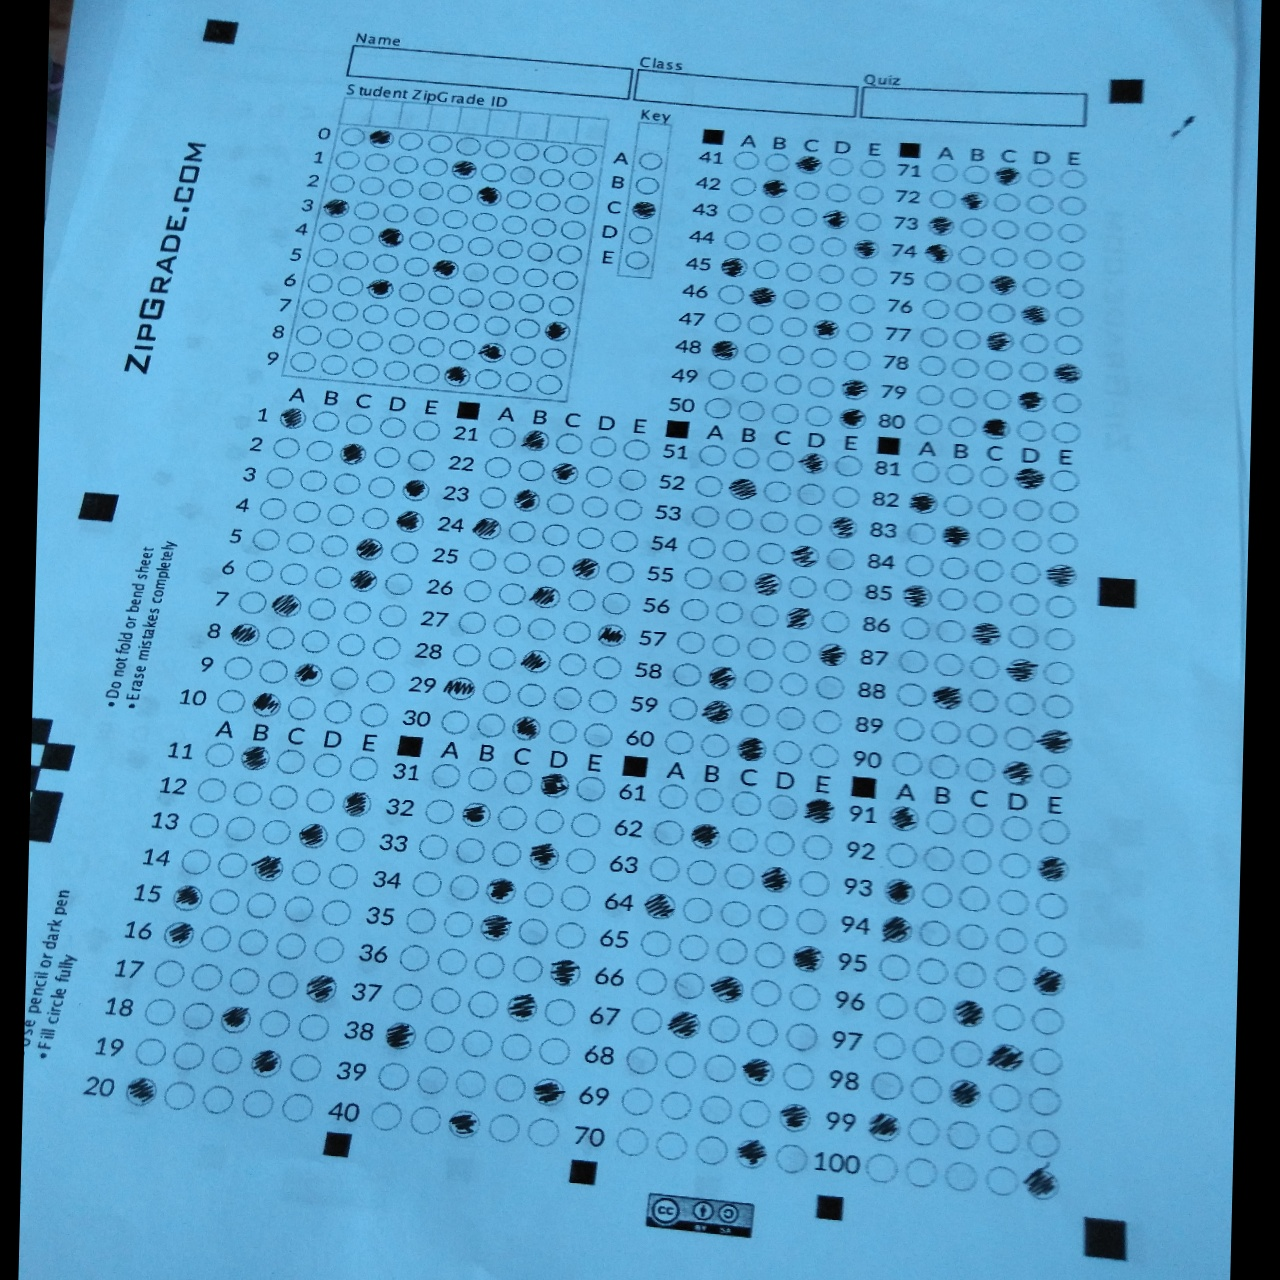not-c: (945, 1117, 982, 1152), (1024, 1126, 1063, 1160), (693, 1133, 729, 1166), (702, 1051, 738, 1084), (782, 1020, 818, 1053), (713, 935, 749, 968), (728, 788, 764, 821), (994, 924, 1030, 956), (907, 1074, 944, 1107), (903, 1156, 939, 1189), (1026, 1085, 1063, 1117), (986, 1082, 1023, 1114), (905, 1115, 942, 1146), (862, 1152, 899, 1184), (983, 1123, 1021, 1155), (697, 1092, 731, 1126), (658, 1090, 693, 1123), (672, 971, 707, 1003), (708, 1012, 743, 1044), (787, 981, 822, 1014), (680, 894, 715, 927), (655, 781, 690, 813), (924, 805, 959, 838), (961, 810, 996, 843), (998, 849, 1033, 881), (1033, 928, 1068, 961), (954, 920, 989, 953), (992, 961, 1027, 994), (911, 1033, 946, 1065), (653, 1129, 689, 1160), (736, 1098, 772, 1130), (627, 1006, 663, 1037), (632, 967, 668, 999), (779, 1061, 816, 1092), (748, 978, 784, 1009), (721, 859, 757, 891), (646, 853, 682, 885), (881, 839, 918, 871), (958, 847, 994, 879), (501, 765, 535, 798), (493, 802, 527, 835), (241, 1087, 275, 1119), (678, 932, 712, 965), (685, 855, 719, 887), (922, 840, 956, 873), (956, 881, 990, 914), (1035, 888, 1069, 921), (772, 1143, 808, 1175), (636, 927, 672, 959), (663, 1049, 699, 1081), (745, 1017, 781, 1049), (751, 940, 787, 972), (717, 898, 753, 930), (755, 901, 790, 933), (762, 828, 797, 859), (692, 785, 727, 817), (998, 813, 1033, 845), (1037, 816, 1073, 847), (917, 915, 952, 947), (878, 951, 913, 982), (990, 1001, 1026, 1033), (1030, 1005, 1065, 1036), (952, 959, 987, 990), (1028, 1046, 1063, 1077), (942, 1160, 978, 1192), (666, 693, 701, 724), (872, 1030, 908, 1061), (869, 1070, 905, 1101), (983, 1166, 1020, 1197), (171, 1039, 204, 1071), (243, 890, 277, 921), (422, 797, 456, 829), (568, 810, 602, 842), (517, 915, 551, 947), (441, 908, 475, 940), (199, 922, 233, 954), (152, 958, 186, 989), (200, 1084, 234, 1116), (227, 965, 261, 996), (297, 1012, 331, 1043), (369, 1101, 403, 1132), (452, 1068, 486, 1099), (493, 1073, 527, 1104), (525, 1116, 559, 1148), (396, 942, 430, 974), (389, 981, 423, 1013), (429, 985, 463, 1016), (499, 1032, 533, 1063), (998, 885, 1032, 917), (915, 956, 949, 988), (948, 1037, 982, 1069), (968, 652, 1002, 683), (806, 740, 840, 771), (903, 549, 937, 580), (615, 1126, 651, 1157), (621, 1085, 656, 1116), (797, 869, 832, 899), (801, 833, 836, 864), (724, 824, 760, 855), (651, 818, 686, 849), (919, 878, 954, 908), (874, 989, 910, 1020), (912, 994, 947, 1024), (891, 715, 926, 745), (1040, 692, 1075, 722), (1042, 625, 1077, 655), (430, 761, 463, 792), (144, 996, 177, 1028), (182, 1000, 215, 1032), (375, 1061, 408, 1092), (415, 1064, 448, 1096), (474, 949, 506, 981), (435, 946, 468, 978), (467, 989, 499, 1021), (461, 1027, 493, 1058), (423, 1024, 456, 1056), (282, 893, 316, 924), (410, 870, 444, 900), (563, 845, 597, 876), (554, 919, 588, 949), (447, 872, 481, 903), (163, 1080, 197, 1110), (273, 931, 307, 961), (288, 1051, 322, 1082), (281, 1092, 315, 1123), (486, 1112, 520, 1143), (625, 1046, 659, 1076), (794, 906, 828, 937), (765, 792, 799, 823), (896, 647, 930, 678), (932, 649, 966, 680), (1041, 658, 1075, 688), (670, 661, 704, 692), (888, 750, 924, 779), (769, 736, 804, 765), (319, 897, 352, 927), (465, 763, 498, 794), (573, 774, 606, 804), (533, 806, 566, 837), (454, 835, 486, 865), (134, 1037, 166, 1068), (211, 1046, 244, 1076), (258, 1008, 291, 1039), (266, 971, 299, 1001), (543, 998, 576, 1028), (409, 1104, 442, 1135), (189, 964, 223, 993), (312, 935, 346, 965), (538, 1037, 572, 1067), (509, 954, 543, 983), (964, 755, 998, 784), (926, 753, 960, 782), (930, 719, 964, 748), (894, 679, 928, 708), (966, 720, 1000, 749), (697, 731, 731, 761), (673, 628, 707, 658), (709, 629, 743, 659), (745, 634, 779, 663), (779, 635, 813, 665), (898, 614, 932, 644), (559, 881, 591, 912), (417, 832, 450, 862), (522, 880, 554, 910), (490, 839, 523, 869), (207, 886, 240, 915), (237, 928, 270, 958), (967, 686, 1000, 715), (1003, 723, 1036, 753), (1040, 762, 1073, 791), (1003, 689, 1036, 719), (663, 727, 696, 756), (737, 702, 771, 730), (741, 668, 775, 696), (678, 595, 712, 624), (819, 608, 853, 636), (327, 862, 359, 891), (404, 907, 436, 937), (461, 578, 493, 606), (311, 751, 343, 779), (813, 673, 846, 701), (774, 704, 806, 733), (713, 600, 745, 628), (810, 708, 844, 735), (685, 535, 719, 561), (823, 546, 857, 573), (971, 588, 1005, 615), (942, 459, 976, 486), (910, 459, 944, 486), (758, 508, 792, 535), (322, 697, 354, 726), (285, 695, 316, 723), (204, 741, 236, 769), (440, 708, 471, 736), (481, 679, 512, 707), (491, 612, 523, 640), (599, 588, 631, 617), (217, 852, 248, 880), (291, 858, 322, 886), (215, 688, 247, 715), (474, 712, 506, 738), (516, 681, 549, 708), (495, 583, 527, 610), (536, 553, 568, 580), (305, 787, 338, 813), (223, 815, 256, 842), (777, 670, 810, 697), (748, 602, 781, 629), (754, 540, 787, 567), (938, 554, 971, 581), (972, 556, 1005, 583), (1048, 467, 1081, 493), (795, 481, 828, 508), (831, 452, 864, 479), (821, 577, 855, 602), (787, 574, 821, 600), (716, 567, 750, 593), (682, 564, 716, 590), (719, 538, 753, 564), (933, 618, 967, 644), (1006, 625, 1040, 651), (1008, 591, 1042, 617), (937, 586, 971, 612), (974, 526, 1008, 552), (1009, 497, 1043, 523), (1046, 530, 1080, 556), (687, 504, 721, 530), (730, 445, 764, 471), (695, 442, 729, 468), (586, 687, 617, 715), (559, 619, 590, 647), (565, 586, 595, 614), (312, 564, 343, 591), (358, 701, 389, 728), (552, 685, 584, 712), (486, 645, 518, 672), (451, 642, 483, 669), (557, 652, 588, 679), (525, 617, 557, 644), (455, 610, 486, 636), (604, 558, 635, 585), (347, 755, 379, 782), (268, 784, 300, 811), (197, 777, 229, 804), (189, 812, 220, 839), (181, 847, 212, 874), (260, 819, 292, 846), (334, 826, 366, 853), (1010, 559, 1042, 586), (762, 479, 794, 506), (1044, 595, 1077, 621), (1010, 529, 1043, 554), (976, 495, 1009, 520), (941, 493, 974, 519), (978, 463, 1010, 489), (1047, 498, 1080, 524), (905, 520, 938, 546), (794, 511, 826, 537), (722, 506, 755, 532), (693, 475, 726, 501), (829, 483, 862, 509), (765, 448, 798, 474), (307, 595, 338, 622), (300, 627, 331, 654), (546, 717, 577, 744), (583, 722, 613, 749), (592, 655, 622, 682), (501, 549, 531, 576), (275, 748, 306, 775), (232, 779, 263, 806), (319, 533, 350, 559), (237, 590, 268, 615), (265, 625, 297, 651), (808, 345, 839, 370), (745, 312, 777, 338), (712, 309, 743, 335), (946, 414, 978, 440), (1019, 331, 1050, 356), (1054, 305, 1085, 331), (329, 665, 359, 692), (258, 496, 288, 522), (244, 559, 274, 585), (342, 599, 373, 625), (377, 602, 408, 628), (258, 658, 288, 683), (222, 655, 252, 681), (608, 527, 639, 553), (613, 498, 644, 524), (579, 495, 610, 520), (482, 455, 512, 481), (516, 457, 546, 483), (618, 467, 648, 492), (769, 400, 799, 425), (774, 372, 804, 397), (812, 290, 843, 315), (845, 291, 876, 316), (953, 297, 983, 322), (1049, 418, 1080, 444), (989, 216, 1020, 241), (1058, 166, 1089, 192), (819, 234, 850, 260), (727, 173, 757, 199), (802, 403, 833, 428), (704, 367, 736, 392), (741, 340, 772, 365), (1051, 390, 1083, 415), (986, 300, 1017, 325), (958, 216, 989, 240), (1026, 165, 1057, 190), (992, 190, 1023, 215), (540, 523, 570, 549), (576, 526, 605, 552), (588, 435, 618, 461), (736, 399, 765, 424), (922, 270, 952, 295), (755, 230, 784, 256), (251, 526, 281, 551), (285, 530, 315, 554), (384, 572, 415, 597), (278, 561, 308, 586), (365, 669, 395, 694), (467, 547, 497, 572), (545, 491, 576, 516), (477, 485, 508, 510), (584, 465, 614, 490), (486, 424, 517, 449), (806, 375, 837, 400), (844, 320, 874, 345), (738, 368, 769, 393), (775, 343, 805, 368), (715, 281, 745, 306), (847, 264, 878, 288), (751, 256, 782, 280), (914, 411, 945, 436), (952, 326, 982, 350), (983, 358, 1014, 382), (1016, 417, 1047, 442), (1017, 360, 1048, 384), (1022, 275, 1053, 300), (1054, 274, 1084, 299), (1055, 248, 1085, 273), (1023, 246, 1054, 271), (990, 245, 1021, 270), (1055, 220, 1085, 245), (1024, 191, 1055, 216), (927, 188, 958, 212), (961, 162, 992, 186), (722, 227, 753, 252), (724, 200, 755, 225), (730, 148, 761, 172), (761, 149, 791, 173), (917, 354, 948, 377), (1051, 334, 1083, 358), (824, 155, 856, 178), (343, 413, 373, 437), (377, 415, 407, 440), (298, 468, 327, 492), (366, 475, 395, 499), (390, 540, 420, 565), (372, 636, 401, 661), (338, 633, 367, 658), (506, 520, 536, 545), (622, 437, 652, 462), (554, 431, 584, 456), (703, 396, 733, 421), (779, 314, 809, 339), (782, 287, 811, 312), (784, 258, 813, 282), (948, 386, 978, 410), (914, 384, 944, 409), (920, 326, 949, 350), (920, 297, 949, 321), (955, 271, 985, 295), (983, 388, 1013, 413), (1057, 193, 1087, 218), (930, 159, 959, 184), (305, 440, 335, 463), (271, 436, 301, 459), (332, 472, 362, 496), (842, 349, 872, 373), (817, 263, 847, 286), (949, 356, 980, 380), (956, 243, 987, 266), (788, 232, 818, 256), (791, 179, 822, 203), (470, 209, 499, 232), (306, 272, 335, 295), (392, 306, 421, 329), (311, 409, 340, 433), (411, 418, 441, 442), (407, 449, 436, 472), (264, 465, 293, 489), (361, 505, 390, 529), (326, 504, 355, 527), (1022, 218, 1051, 241), (823, 182, 853, 204), (454, 134, 482, 157), (479, 161, 508, 184), (411, 204, 440, 227), (551, 268, 579, 292), (457, 286, 485, 309), (422, 307, 450, 331), (362, 302, 390, 326), (325, 327, 353, 350), (387, 333, 415, 356), (474, 368, 502, 392), (444, 182, 474, 204), (381, 203, 410, 225), (554, 243, 584, 265), (427, 284, 456, 306), (483, 315, 512, 338), (372, 445, 401, 468), (859, 158, 888, 181), (855, 184, 884, 206), (757, 204, 787, 226), (790, 205, 821, 226), (467, 234, 493, 258), (339, 125, 367, 148), (513, 139, 542, 162), (536, 168, 564, 190), (508, 164, 536, 186), (333, 149, 361, 171), (328, 172, 356, 195), (387, 178, 415, 200), (505, 189, 533, 211), (533, 190, 561, 212), (563, 195, 591, 217), (634, 175, 662, 197), (627, 225, 655, 247), (622, 248, 651, 271), (559, 219, 587, 241), (530, 216, 558, 238), (353, 199, 381, 222), (348, 223, 376, 245), (336, 274, 365, 297), (403, 256, 431, 278), (407, 230, 435, 252), (436, 233, 464, 256), (497, 238, 525, 260), (525, 240, 553, 263), (522, 266, 550, 288), (516, 293, 544, 315), (513, 316, 542, 339), (509, 343, 537, 366), (452, 312, 481, 334), (332, 300, 360, 322), (300, 297, 328, 319), (417, 335, 445, 358), (447, 340, 475, 362), (539, 346, 567, 368), (504, 372, 532, 394), (382, 359, 410, 381), (320, 354, 348, 376), (855, 210, 883, 232), (440, 207, 469, 229), (294, 324, 324, 345), (358, 175, 384, 197), (636, 151, 663, 173), (373, 252, 400, 274), (492, 264, 519, 286), (316, 222, 343, 244), (396, 131, 424, 152), (425, 132, 454, 154), (483, 138, 511, 159), (542, 144, 570, 165), (571, 145, 599, 166), (566, 170, 594, 191), (422, 157, 450, 178), (363, 152, 392, 173), (340, 248, 368, 270), (462, 263, 490, 284), (311, 247, 339, 268), (486, 290, 515, 311), (535, 374, 563, 395), (411, 363, 440, 384), (293, 501, 321, 522), (392, 154, 418, 175), (501, 215, 527, 236), (549, 297, 576, 318), (355, 331, 382, 352), (350, 356, 377, 377), (290, 350, 316, 372), (417, 181, 445, 200), (397, 282, 425, 302)
taken-c: (1022, 1167, 1062, 1203), (949, 998, 990, 1032), (733, 1135, 770, 1170), (866, 1111, 903, 1146), (988, 1040, 1024, 1075), (1029, 966, 1069, 998), (947, 1077, 982, 1112), (445, 1107, 483, 1139), (456, 799, 493, 832), (504, 992, 540, 1024), (525, 840, 561, 873), (217, 1005, 254, 1036), (482, 877, 519, 908), (1039, 726, 1076, 757), (930, 683, 967, 715), (884, 804, 922, 835), (382, 1021, 418, 1053), (531, 1075, 567, 1107), (547, 958, 584, 989), (1003, 653, 1040, 685), (122, 1076, 159, 1107), (475, 912, 512, 942), (1035, 852, 1073, 883), (999, 758, 1036, 789), (248, 1048, 284, 1080), (508, 714, 543, 745), (642, 891, 678, 922), (302, 974, 339, 1005), (536, 772, 572, 803), (790, 944, 826, 974), (879, 914, 915, 945), (881, 874, 918, 905), (969, 620, 1006, 651), (777, 1103, 812, 1133), (668, 1010, 704, 1040), (735, 735, 769, 765), (161, 920, 196, 949), (689, 822, 724, 851), (741, 1057, 776, 1087), (907, 488, 942, 517), (229, 620, 263, 649), (252, 855, 286, 884), (169, 884, 203, 913), (803, 796, 837, 825), (760, 865, 794, 894), (712, 975, 745, 1005), (900, 583, 935, 611), (939, 524, 974, 552), (270, 592, 304, 620), (292, 661, 326, 689), (339, 790, 373, 818), (297, 822, 331, 850), (1046, 561, 1080, 590), (444, 674, 476, 703), (518, 648, 551, 676), (530, 584, 563, 612), (568, 554, 601, 583), (471, 516, 504, 544), (509, 486, 542, 515), (788, 542, 821, 570), (1015, 387, 1048, 415), (250, 692, 284, 719), (239, 744, 273, 771), (784, 605, 818, 632), (816, 641, 850, 668), (707, 665, 741, 692), (1013, 467, 1047, 493), (595, 622, 627, 651), (547, 459, 579, 488), (518, 425, 550, 454), (836, 406, 869, 433), (702, 699, 735, 726), (987, 273, 1020, 300), (922, 241, 955, 268), (959, 188, 992, 215), (751, 571, 785, 597), (982, 329, 1016, 355), (394, 508, 425, 535), (980, 416, 1013, 442), (1051, 361, 1084, 387), (1019, 302, 1051, 328), (924, 212, 956, 238), (992, 164, 1024, 190), (850, 237, 881, 263), (809, 315, 840, 341), (708, 338, 740, 363), (728, 475, 760, 501), (828, 515, 859, 540), (278, 406, 308, 431), (354, 536, 384, 561), (348, 567, 379, 593), (748, 284, 778, 309), (758, 176, 790, 200), (716, 256, 748, 280), (838, 376, 870, 401), (797, 452, 829, 477), (400, 478, 430, 503), (794, 151, 824, 176), (819, 206, 850, 231), (338, 442, 367, 467), (367, 127, 397, 150), (477, 341, 508, 365), (443, 363, 474, 387), (628, 199, 659, 223), (543, 320, 572, 343), (449, 158, 479, 181), (324, 196, 352, 219), (433, 258, 461, 281), (366, 279, 396, 300), (475, 185, 503, 207), (377, 226, 406, 248)
